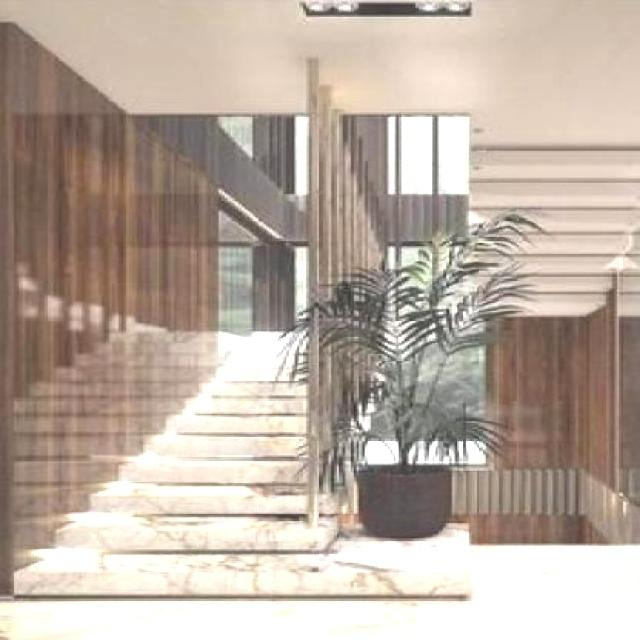stair: (17, 310, 388, 614)
